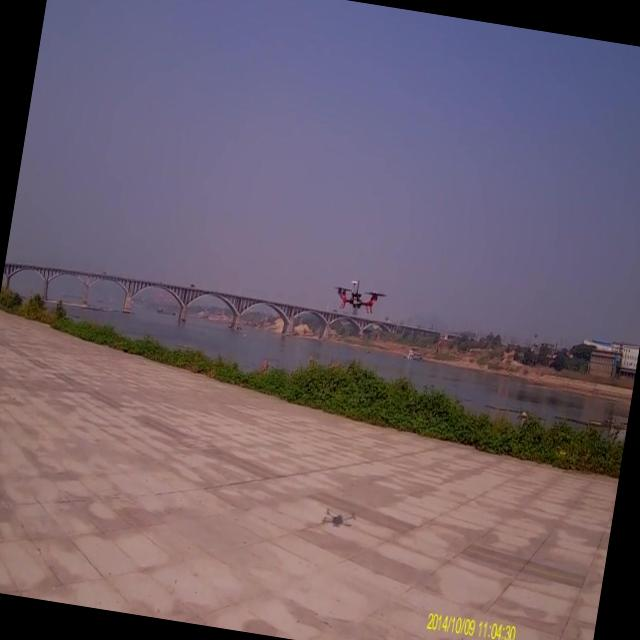drone: (327, 276, 389, 325)
